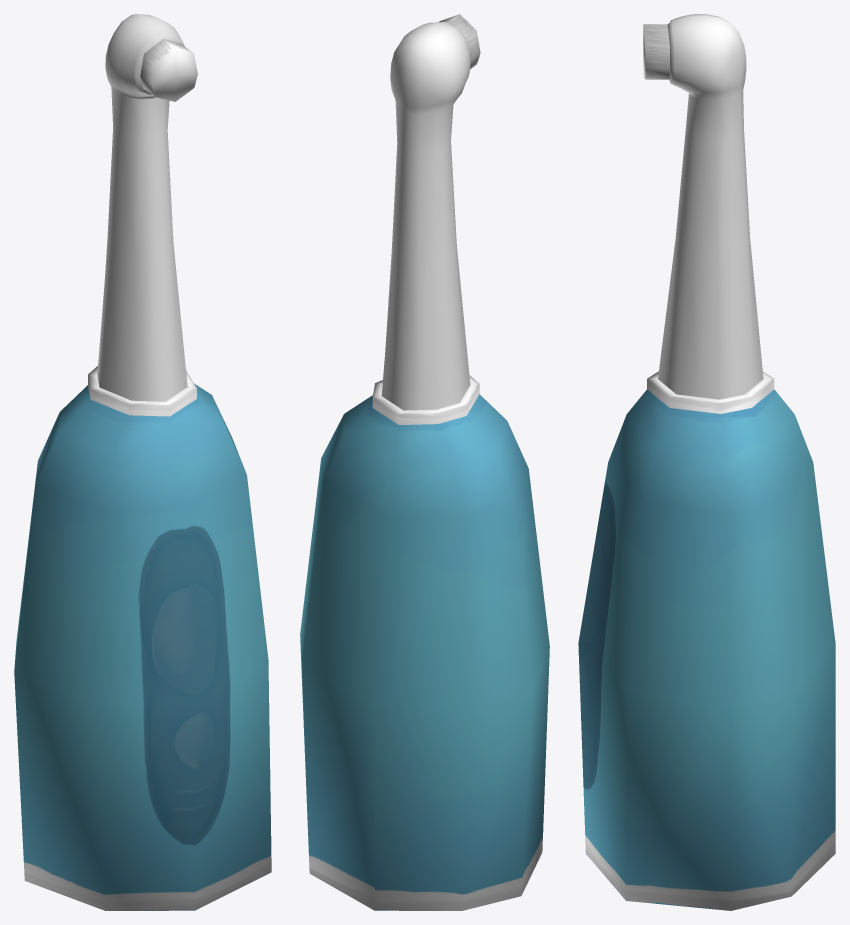
The model's file is Brush03.fbx.
The picture shows the model from 3 angles, left to right: view 1: azimuth 30°, elevation 25°; view 2: azimuth 150°, elevation 25°; view 3: azimuth 270°, elevation 25°; orthographic projection.
Visible parts, largest first — view 1: MOD_Brush03; view 2: MOD_Brush03; view 3: MOD_Brush03.
Boxes of the visible parts, x1,y1,x2,y2 form: MOD_Brush03: (14,14,271,910); MOD_Brush03: (300,14,549,910); MOD_Brush03: (578,14,835,910).
Bounding box in the file's own units: 10.21 × 35.05 × 9.7.
